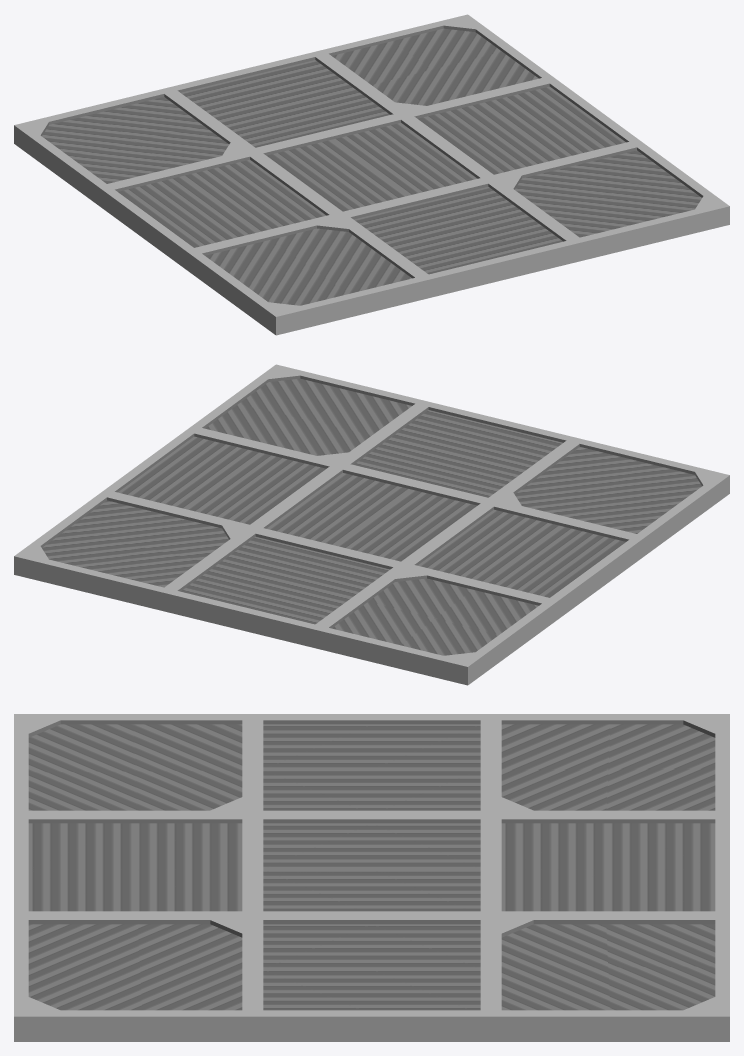
Rendered from Platform1.fbx.
3 views of the same model, one above another, from view 1: azimuth 30°, elevation 25°; view 2: azimuth 150°, elevation 25°; view 3: azimuth 270°, elevation 25° (orthographic). The views are drawn at different scales.
Visible parts, largest first — view 1: pCube2; view 2: pCube2; view 3: pCube2.
Boxes of the visible parts, left/top/right/bottom form: pCube2: left=14, top=14, right=729, bottom=335; pCube2: left=14, top=364, right=729, bottom=685; pCube2: left=14, top=714, right=729, bottom=1041.
Size of the model in its own units: 6.12 by 0.2389 by 6.12.
